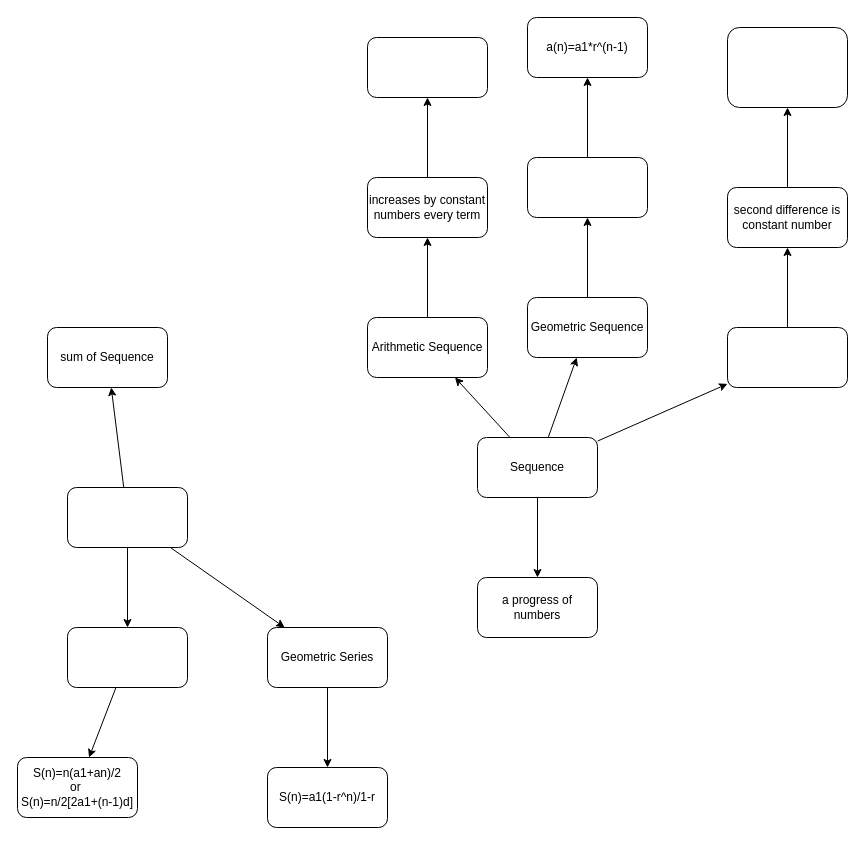
The diagram is 865 pixels wide and 845 high, and some of its shapes have lost their labels. Each missing label, with the centre of its shape:
"a(n)=a1+(n-1)d" goes at (x=427, y=67).
"Arithmetic Series" goes at (x=127, y=657).
"increases by multiplication of a number every term" goes at (x=587, y=187).
"Quadratic Sequence" goes at (x=787, y=357).
"Series" goes at (x=127, y=517).
"T(n)=a*n^2+b*n+c => takes time to calcuate or T(n)=a1+Sum(bn)" goes at (x=787, y=67).
